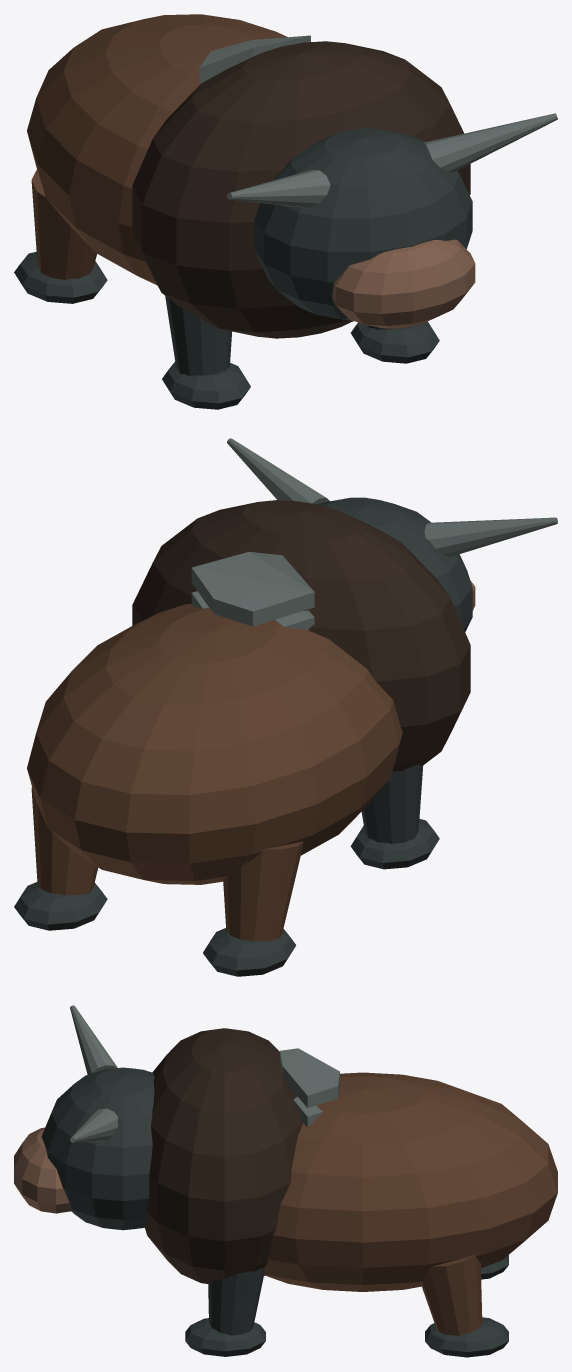
File: MagicForestBull.obj
The picture shows the model from 3 angles, top to bottom: view 1: azimuth 30°, elevation 25°; view 2: azimuth 150°, elevation 25°; view 3: azimuth 270°, elevation 25°; orthographic projection. The views are drawn at different scales.
Visible parts, largest first — view 1: Shoulder, Body, Head, Muzzle, BackLeg-0.98, FrontLeg-0.98, HornR, HoofF-0.98, HoofF0.98, HoofB-0.98, HornL, RockPlate2.8; view 2: Body, Shoulder, RockPlate2.8, BackLeg-0.98, Head, FrontLeg-0.98, BackLeg0.98, HornL, HoofB-0.98, HoofB0.98, HoofF-0.98, HornR (+1 smaller); view 3: Body, Shoulder, Head, BackLeg0.98, Muzzle, FrontLeg0.98, RockPlate2.8, HoofB0.98, HoofF0.98, HornL, HornR.
Part boxes in pixels (x1,y1,x2,y2): Shoulder: (132, 41, 470, 338); Body: (27, 14, 287, 285); Head: (254, 128, 472, 320); Muzzle: (332, 239, 475, 328); BackLeg-0.98: (31, 169, 96, 279); FrontLeg-0.98: (165, 296, 232, 375); HornR: (424, 113, 557, 172); HoofF-0.98: (162, 361, 250, 409); HoofF0.98: (351, 321, 439, 363); HoofB-0.98: (14, 251, 107, 303); HornL: (227, 170, 330, 207); RockPlate2.8: (199, 35, 310, 82); Body: (27, 604, 402, 884); Shoulder: (132, 500, 470, 771); RockPlate2.8: (191, 551, 314, 626); BackLeg-0.98: (223, 841, 303, 941); Head: (317, 497, 472, 631); FrontLeg-0.98: (361, 764, 422, 843); BackLeg0.98: (31, 787, 98, 895); HornL: (424, 517, 557, 556); HoofB-0.98: (203, 928, 296, 976); HoofB0.98: (14, 882, 107, 930); HoofF-0.98: (350, 819, 439, 869); HornR: (227, 438, 329, 504); Body: (264, 1072, 557, 1291); Shoulder: (145, 1028, 302, 1283); Head: (41, 1067, 154, 1230); BackLeg0.98: (421, 1254, 482, 1335); Muzzle: (14, 1127, 72, 1213); FrontLeg0.98: (208, 1267, 264, 1335); RockPlate2.8: (280, 1048, 339, 1108); HoofB0.98: (425, 1317, 508, 1357); HoofF0.98: (185, 1318, 265, 1356); HornL: (70, 1005, 117, 1074); HornR: (70, 1108, 117, 1142).
Bounding box in the file's own units: 3.42 × 3.23 × 5.9.
